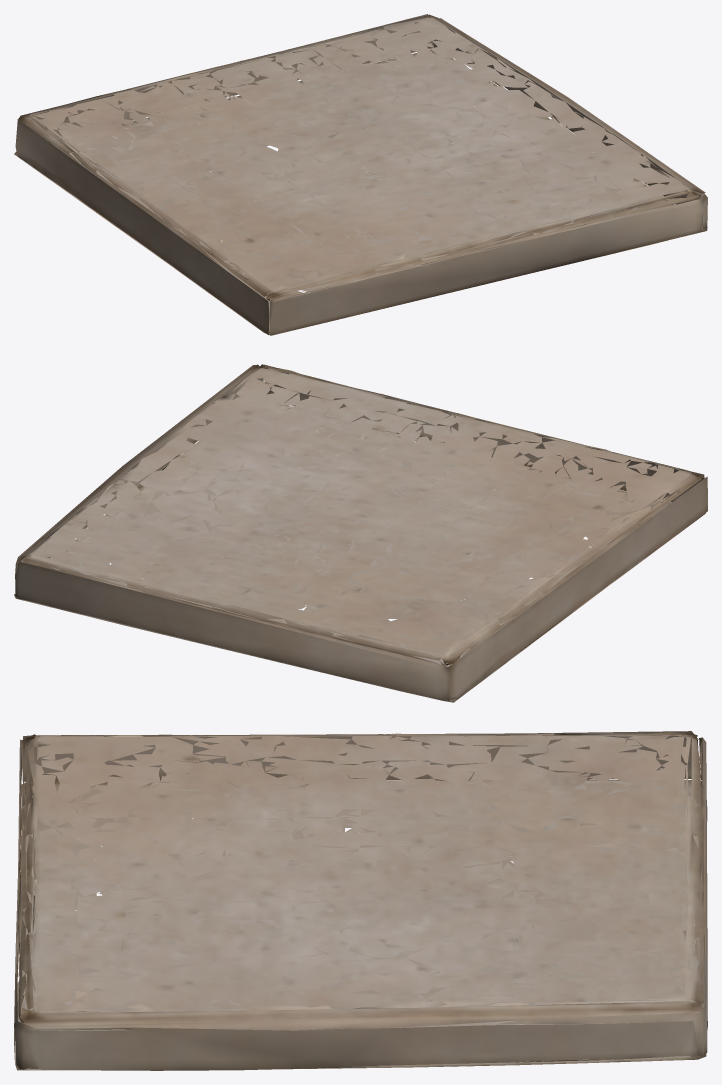
Rendered from floor.glb.
3 views of the same model, one above another, from view 1: azimuth 30°, elevation 25°; view 2: azimuth 150°, elevation 25°; view 3: azimuth 270°, elevation 25° (orthographic). The views are drawn at different scales.
Parts seen in each view (by area): view 1: node_0; view 2: node_0; view 3: node_0.
Boxes of the visible parts, x1=… form: node_0: x1=14, y1=14, x2=707, y2=335; node_0: x1=14, y1=364, x2=707, y2=702; node_0: x1=14, y1=731, x2=707, y2=1070.
Bounding box in the file's own units: 0.8605 × 0.0757 × 0.86.
1 material, 1 textured.
